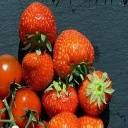strawberry: (53, 28, 94, 81), (17, 3, 56, 54), (78, 71, 114, 113), (42, 80, 78, 118)
